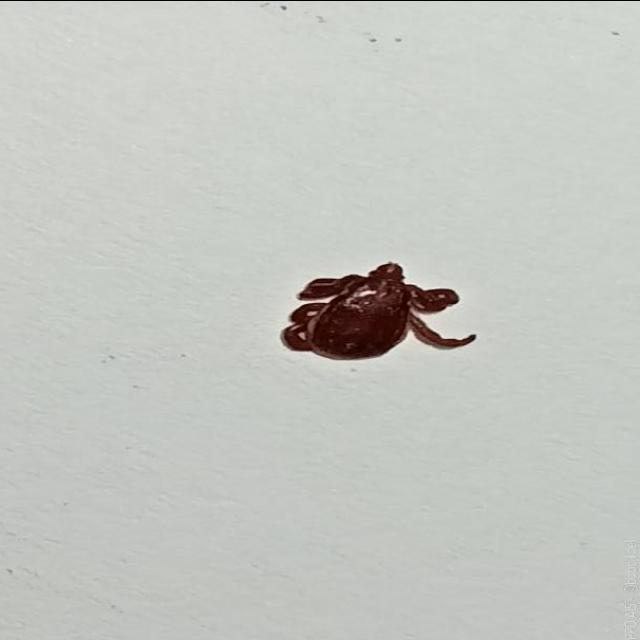Rhipicephalus Sanguineus-M: (281, 261, 479, 363)
